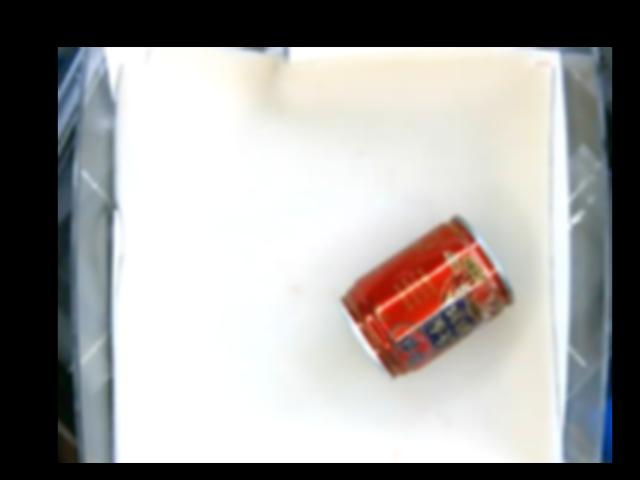Bottle: (336, 215, 516, 378)
